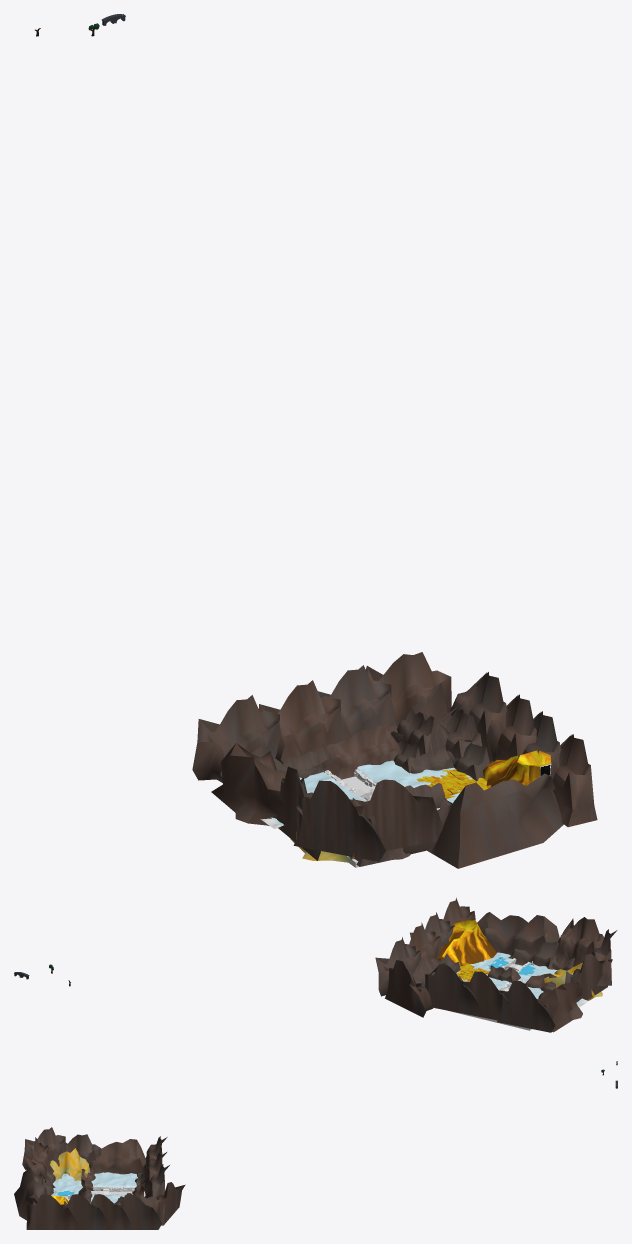
The model's file is Level1.FBX.
The picture shows the model from 3 angles, top to bottom: view 1: azimuth 30°, elevation 25°; view 2: azimuth 150°, elevation 25°; view 3: azimuth 270°, elevation 25°; orthographic projection. The views are drawn at different scales.
Parts seen in each view (by area): view 1: MountainR007, MountainTR012, MountainTR009, MountainTR008, MountainR005, MountainTR010, MountainTR011, MountainTR007, MountainTR004, MountainTL001, MountainTR005, MountainTR006 (+5 smaller); view 2: MountainR007, MountainTR009, MountainTR007, Volcano001, MountainTR010, MountainTR011, MountainR005, MountainTR008, MountainTR006, MountainTR013, MountainL005, MountainTR005 (+9 smaller); view 3: MountainR005, MountainTR004, MountainTR003, MountainTR006, MountainR007, MountainTR012, Sphere002, MountainTR005, MountainTR011, MountainTR010, MountainTR013, Plane001 (+4 smaller).
Part boxes in pixels (x1=…): MountainR007: x1=427, y1=773, x2=563, y2=868; MountainTR012: x1=293, y1=780, x2=385, y2=861; MountainTR009: x1=192, y1=695, x2=282, y2=782; MountainTR008: x1=259, y1=680, x2=346, y2=764; MountainR005: x1=211, y1=743, x2=286, y2=828; MountainTR010: x1=350, y1=779, x2=443, y2=857; MountainTR011: x1=365, y1=652, x2=451, y2=726; MountainTR007: x1=318, y1=665, x2=397, y2=741; MountainTR004: x1=550, y1=734, x2=597, y2=827; MountainTL001: x1=321, y1=725, x2=401, y2=779; MountainTR005: x1=486, y1=694, x2=536, y2=763; MountainTR006: x1=450, y1=672, x2=506, y2=749; MountainR007: x1=477, y1=912, x2=559, y2=960; MountainTR009: x1=497, y1=981, x2=555, y2=1032; MountainTR007: x1=425, y1=964, x2=480, y2=1016; Volcano001: x1=436, y1=920, x2=496, y2=966; MountainTR010: x1=555, y1=917, x2=604, y2=966; MountainTR011: x1=385, y1=960, x2=433, y2=1017; MountainR005: x1=537, y1=982, x2=582, y2=1032; MountainTR008: x1=461, y1=971, x2=509, y2=1020; MountainTR006: x1=375, y1=937, x2=421, y2=996; MountainTR013: x1=565, y1=953, x2=612, y2=1002; MountainL005: x1=508, y1=942, x2=558, y2=969; MountainTR005: x1=405, y1=922, x2=441, y2=959; MountainR005: x1=89, y1=1139, x2=145, y2=1175; MountainTR004: x1=26, y1=1194, x2=77, y2=1229; MountainTR003: x1=60, y1=1194, x2=108, y2=1229; MountainTR006: x1=114, y1=1194, x2=162, y2=1229; MountainR007: x1=14, y1=1167, x2=47, y2=1220; MountainTR012: x1=22, y1=1127, x2=66, y2=1169; Sphere002: x1=50, y1=1148, x2=90, y2=1180; MountainTR005: x1=90, y1=1194, x2=131, y2=1229; MountainTR011: x1=153, y1=1182, x2=185, y2=1225; MountainTR010: x1=24, y1=1137, x2=54, y2=1181; MountainTR013: x1=60, y1=1134, x2=101, y2=1173; Plane001: x1=91, y1=1172, x2=137, y2=1190.
Size of the model in its own units: 1158 by 1025 by 3102.
